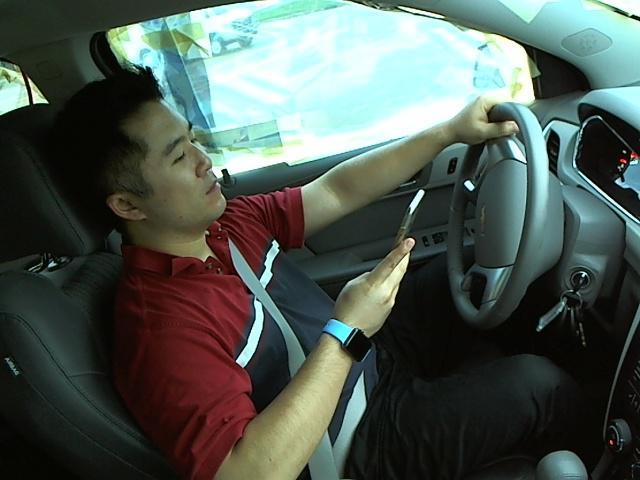PhoneUse: (385, 182, 434, 269)
